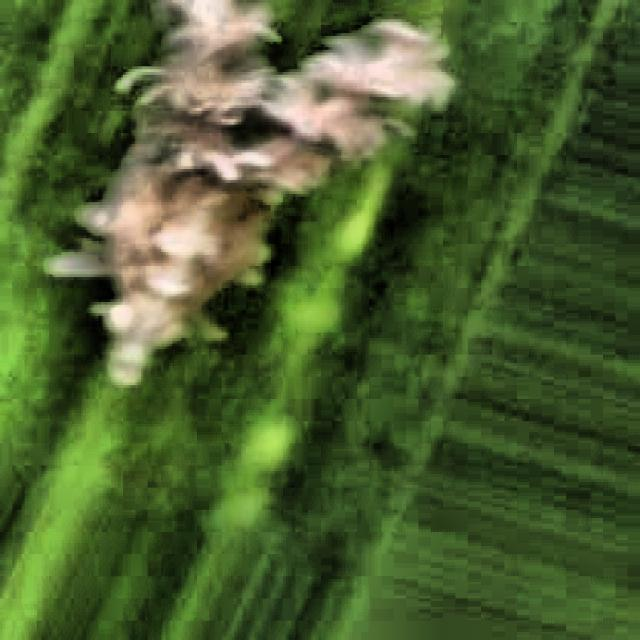Pyrilla-perpusilla: (59, 0, 492, 396)
